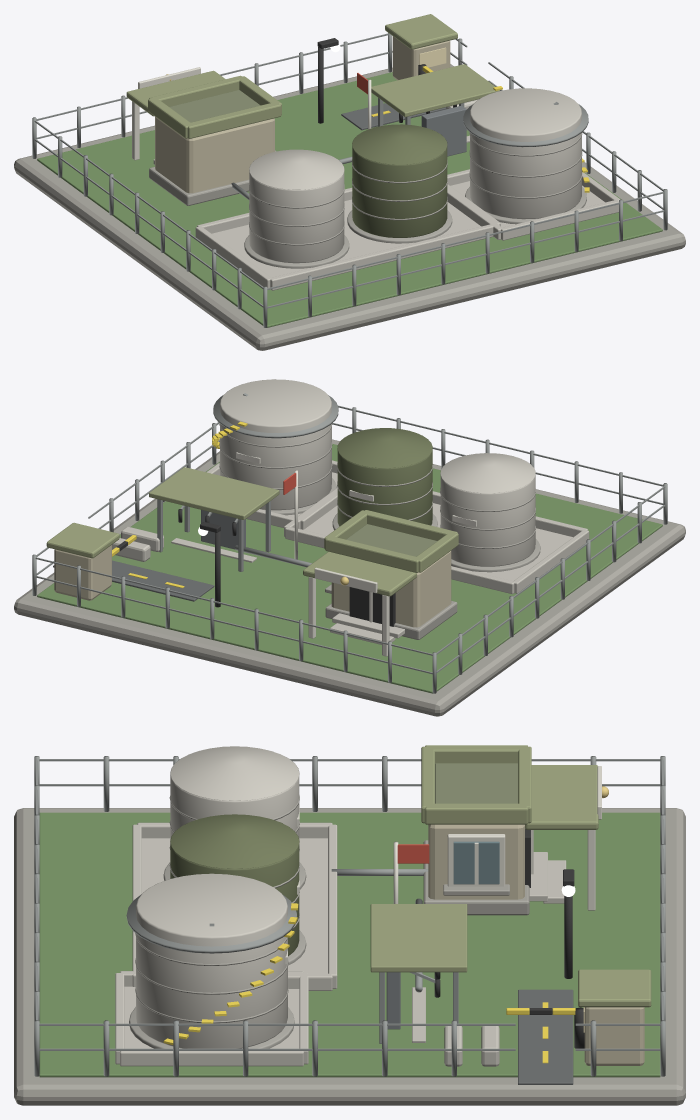
The model's file is fueldepot_6.glb.
3 renders of one model, top to bottom at view 1: azimuth 30°, elevation 25°; view 2: azimuth 150°, elevation 25°; view 3: azimuth 270°, elevation 25°, orthographic. The views are drawn at different scales.
Visible parts, largest first — view 1: Cube.001, Cube, Cylinder.012, Cylinder.007, Cylinder.002, Cube.042, Cube.065, Cone, Cone.001, Cube.016, Cube.014, Cube.007 (+23 smaller); view 2: Cube.001, Cube, Cylinder.012, Cylinder.002, Cylinder.007, Cube.065, Cube.042, Cone.001, Cone, Cube.006, Cube.055, Cube.002 (+27 smaller); view 3: Cube.001, Cube, Cylinder.012, Cube.065, Cone, Cone.001, Cube.014, Cube.002, Cube.055, Cube.042, Cube.048, Cylinder.002 (+34 smaller).
Boxes of the visible parts, bbox=[...] form: Cube.001: bbox=[37, 72, 662, 327]; Cube: bbox=[14, 64, 685, 350]; Cylinder.012: bbox=[470, 88, 581, 219]; Cylinder.007: bbox=[352, 147, 447, 237]; Cylinder.002: bbox=[249, 172, 344, 263]; Cube.042: bbox=[155, 116, 274, 193]; Cube.065: bbox=[371, 64, 499, 117]; Cone: bbox=[249, 149, 344, 189]; Cone.001: bbox=[352, 124, 447, 164]; Cube.016: bbox=[270, 223, 499, 290]; Cube.014: bbox=[212, 199, 480, 277]; Cube.007: bbox=[385, 14, 457, 49]; Cube.001: bbox=[37, 444, 662, 693]; Cube: bbox=[14, 439, 685, 716]; Cylinder.012: bbox=[220, 379, 331, 510]; Cylinder.002: bbox=[440, 476, 535, 566]; Cylinder.007: bbox=[337, 451, 432, 526]; Cube.065: bbox=[149, 467, 279, 519]; Cube.042: bbox=[331, 551, 451, 627]; Cone.001: bbox=[337, 428, 432, 468]; Cone: bbox=[440, 453, 535, 493]; Cube.006: bbox=[54, 545, 111, 600]; Cube.055: bbox=[303, 551, 416, 596]; Cube.002: bbox=[53, 560, 214, 601]; Cube.001: bbox=[39, 812, 660, 1077]; Cube: bbox=[14, 808, 685, 1105]; Cylinder.012: bbox=[136, 873, 287, 1048]; Cube.065: bbox=[370, 904, 467, 972]; Cone: bbox=[170, 746, 299, 800]; Cone.001: bbox=[170, 814, 299, 868]; Cube.014: bbox=[141, 838, 327, 973]; Cube.002: bbox=[518, 989, 573, 1084]; Cube.055: bbox=[525, 765, 598, 829]; Cube.042: bbox=[428, 824, 524, 899]; Cube.048: bbox=[435, 763, 517, 803]; Cylinder.002: bbox=[170, 775, 299, 839].
Size of the model in its own units: 2.92 by 0.715 by 2.92.
